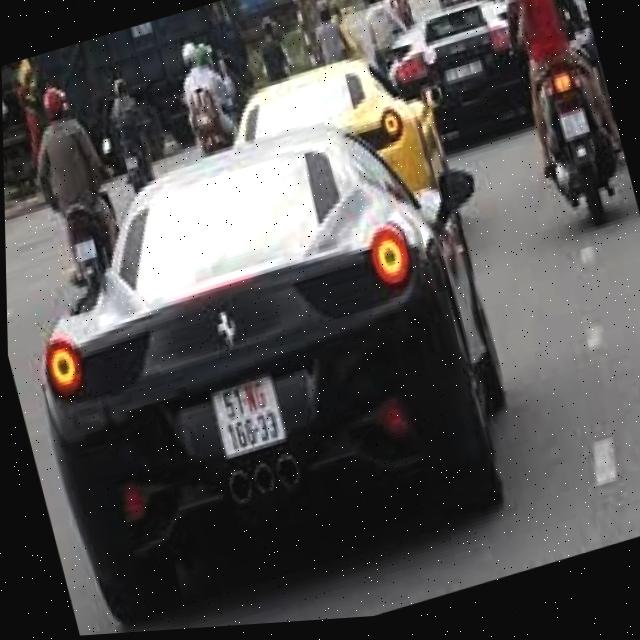car: (3, 78, 560, 640), (367, 0, 550, 159)
motorcycle: (511, 41, 639, 241), (35, 182, 137, 308)
plate: (198, 366, 293, 467), (552, 99, 598, 147), (62, 229, 103, 271)
